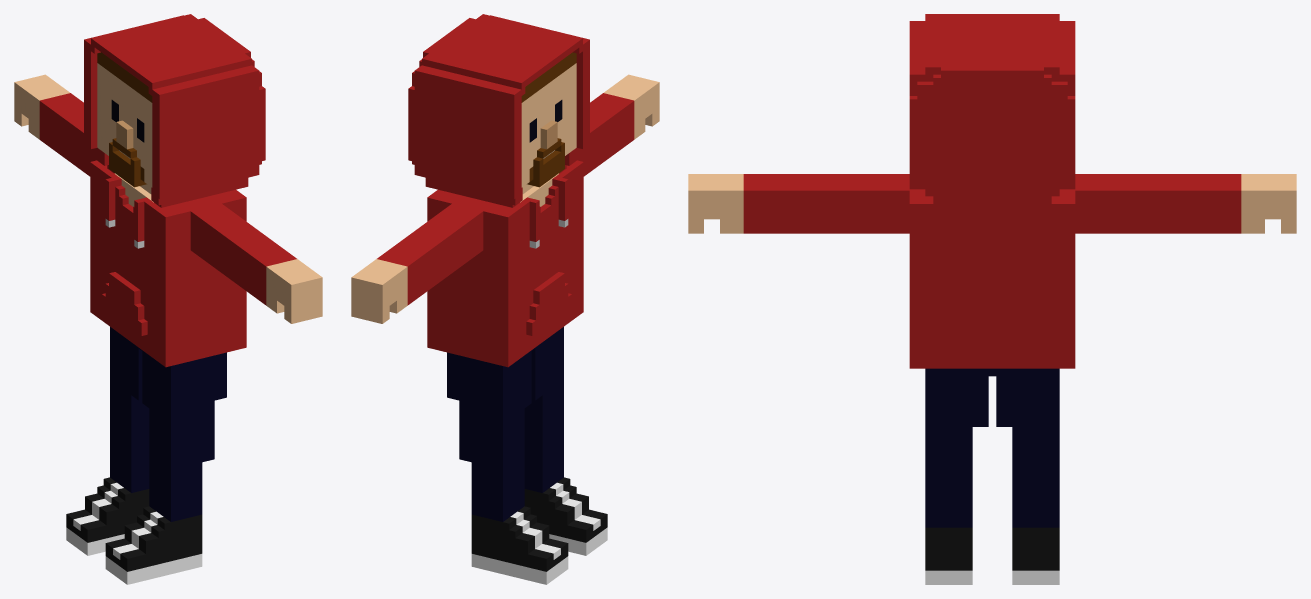
Rendered from male1.obj.
3 renders of one model, left to right at view 1: azimuth 30°, elevation 25°; view 2: azimuth 150°, elevation 25°; view 3: azimuth 270°, elevation 25°, orthographic. The views are drawn at different scales.
Bounding box in the file's own units: 2.1 × 7.6 × 7.7.
1 material, 1 textured.
